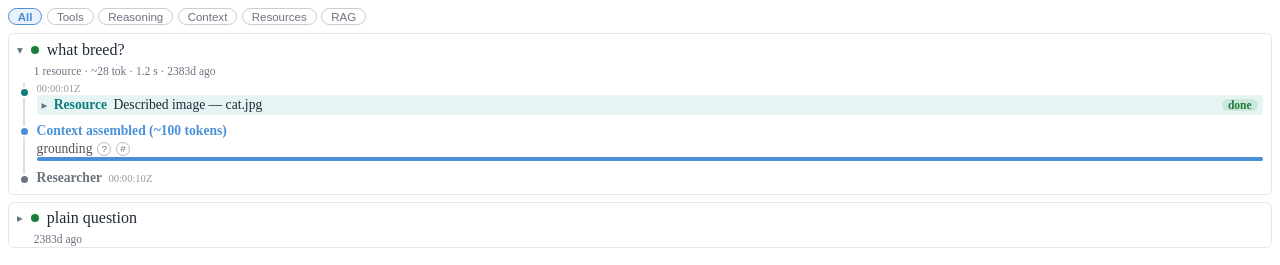
Test: (filter) the Resources chip shows only resource nodes and hides turns with none
The image size is (1280, 265).
Step 1. Click the button with test id "timeline-filter" showing "Resources" → (279, 17), box left=242, top=8, right=316, bottom=25
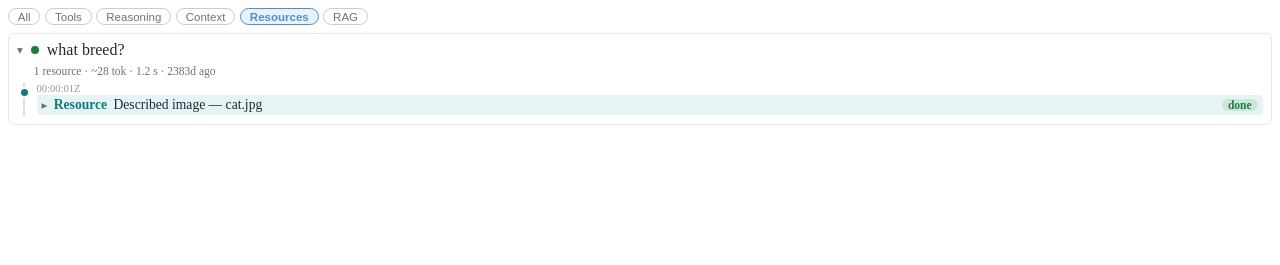
Expected: the number of elements with test id "timeline-resource" is 1, left=37, top=95, right=1263, bottom=115
Expected: the element with test id "timeline-reasoning" is gone
